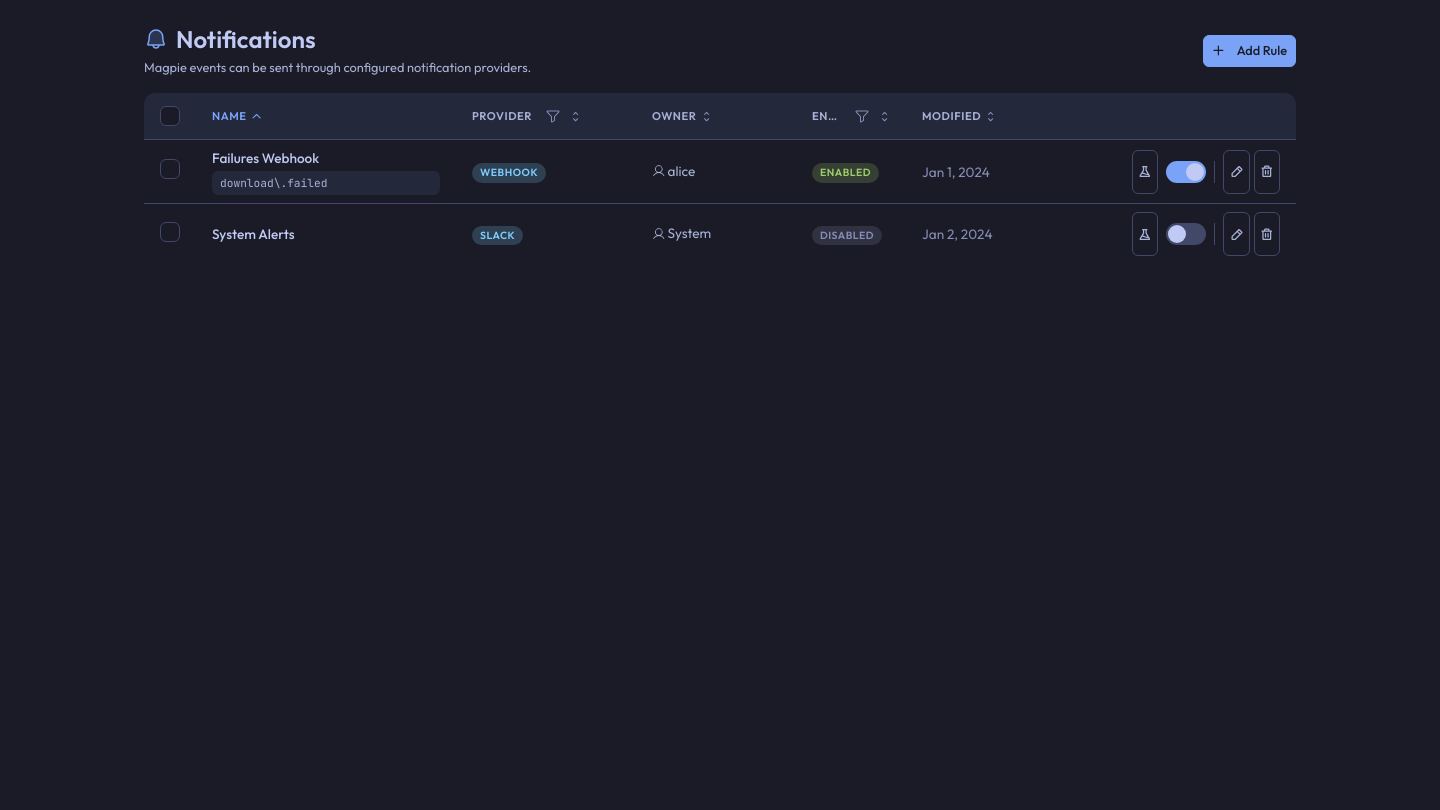
Scenario: NotificationsPage row actions › surfaces the failure reason when a Send Test fails
Step 1. Click the button named "test failures webhook" → x=1145, y=172, box [1132,150,1158,194]
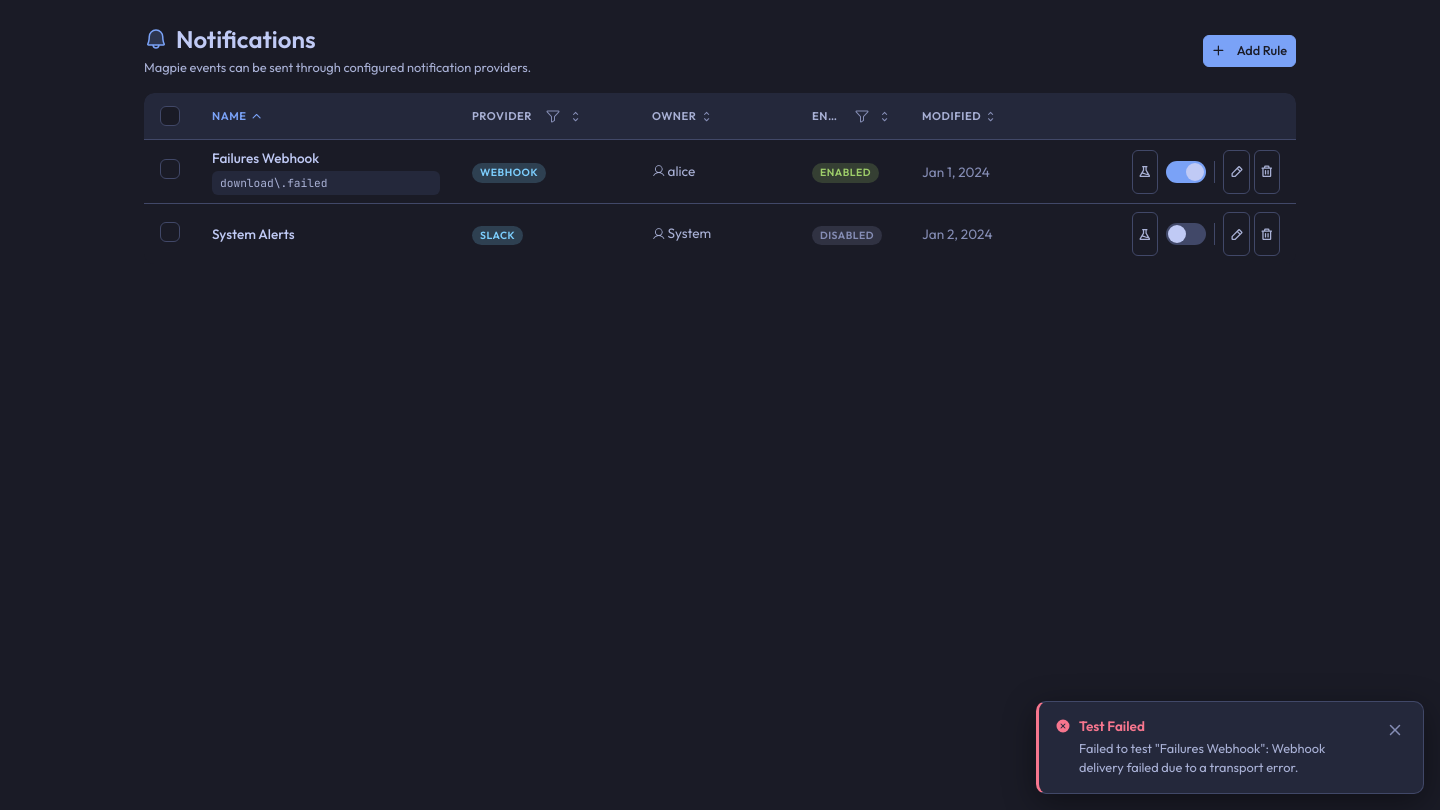
Now the text "Webhook delivery failed due to a transport error." is shown, box [1079,740,1325,775]
